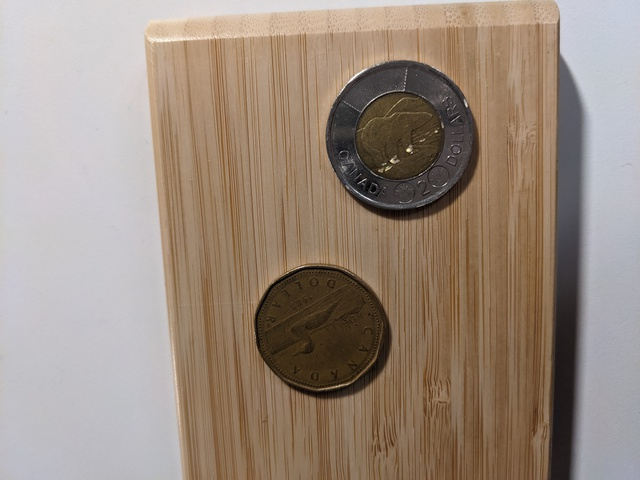loonie: (251, 259, 398, 404)
twonie: (307, 58, 491, 226)
